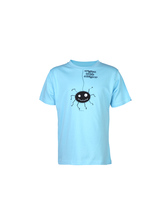clothoes: (37, 60, 137, 170)
